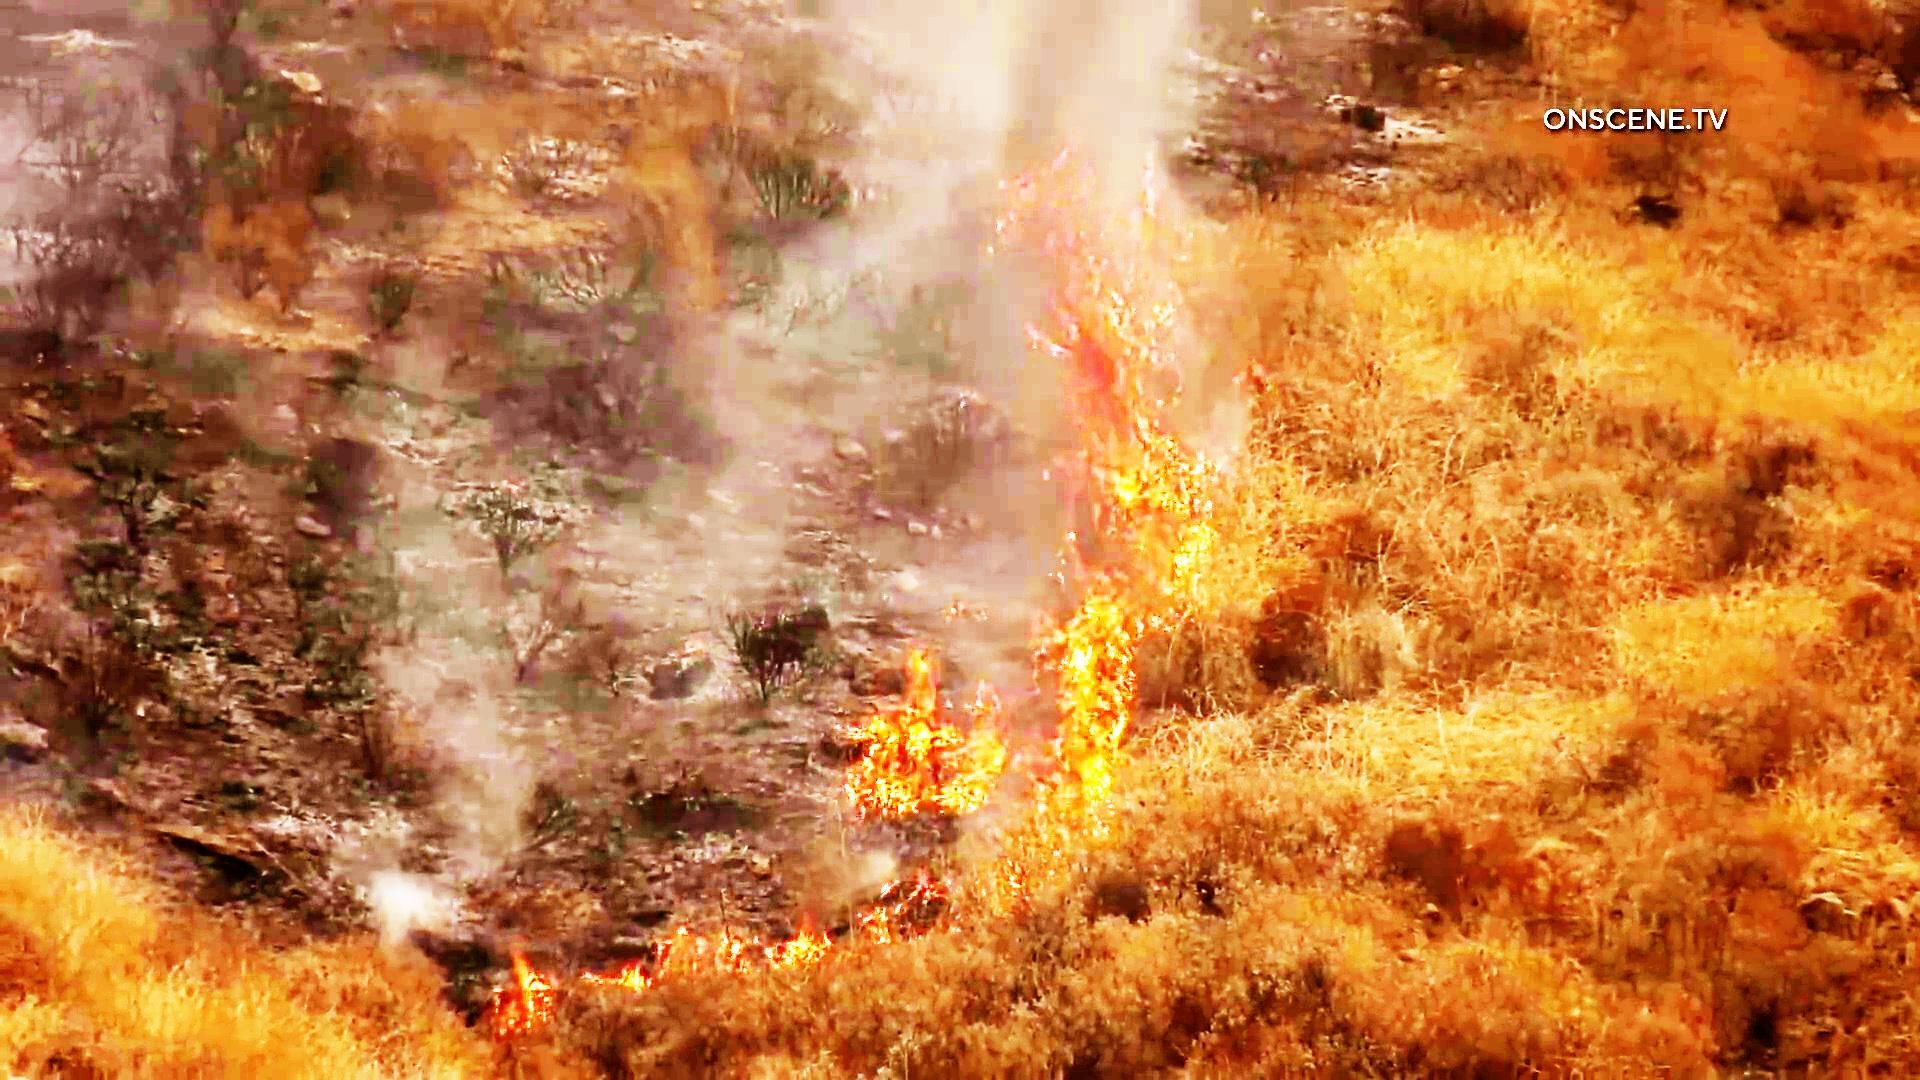fire: (1030, 102, 1245, 599), (845, 480, 1129, 851)
